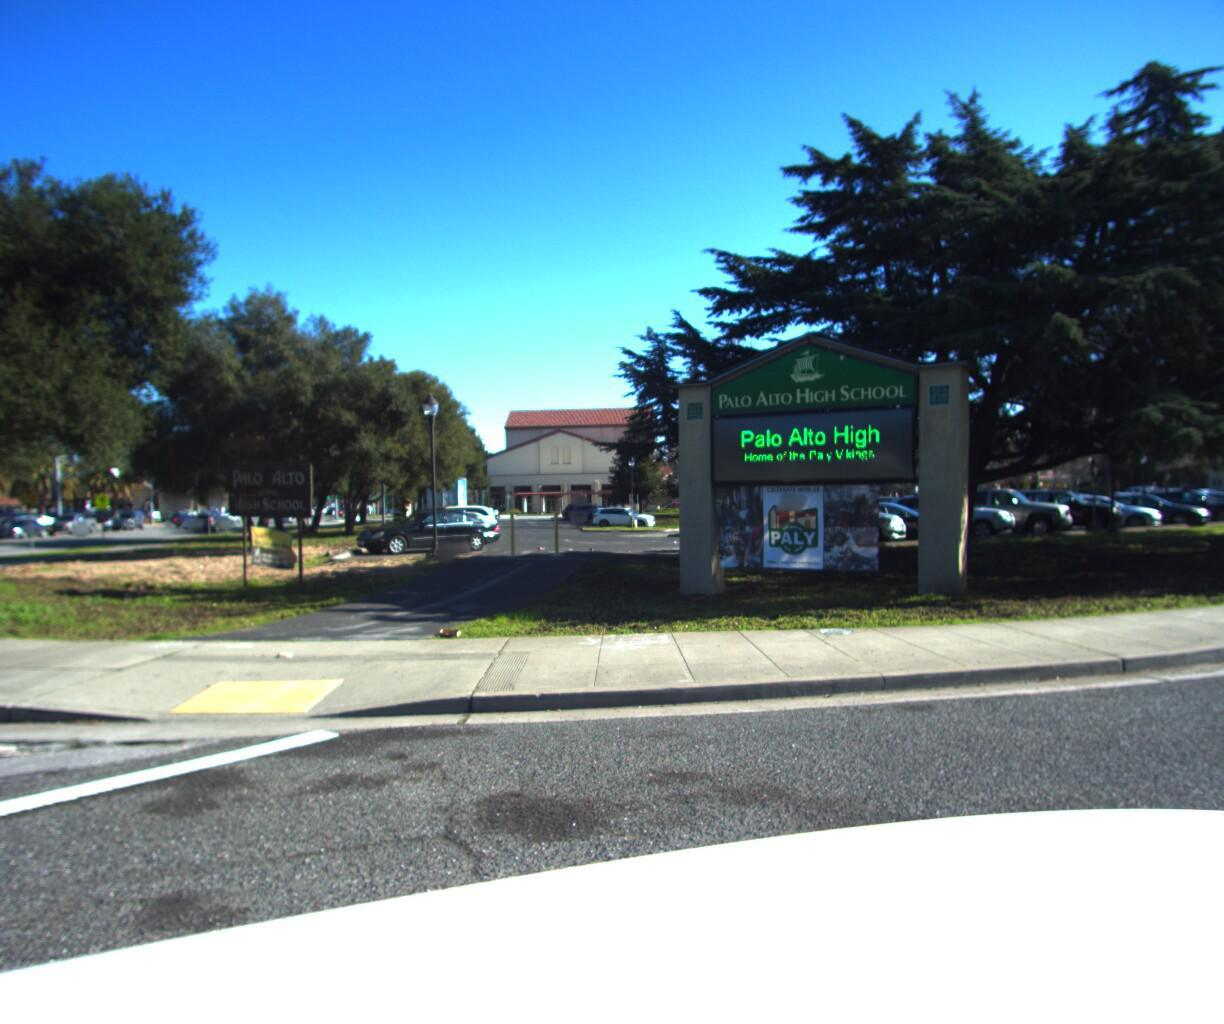car: (0, 511, 52, 538), (49, 505, 94, 528), (193, 505, 231, 527)
